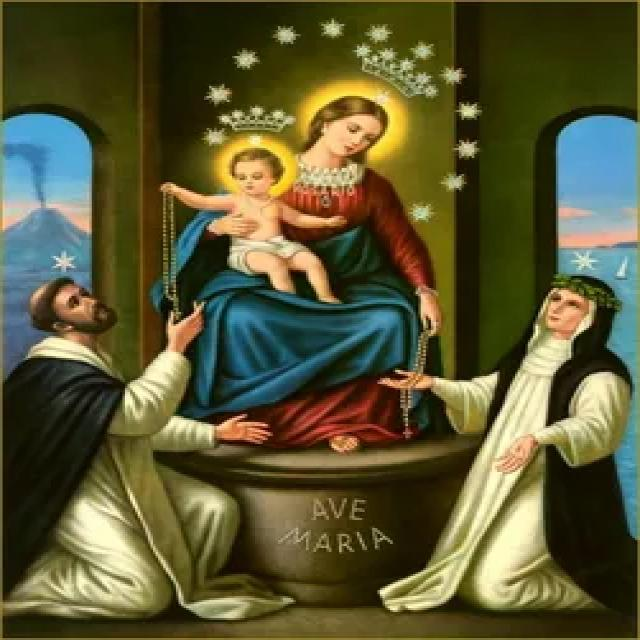mother of god: (146, 85, 470, 448)
